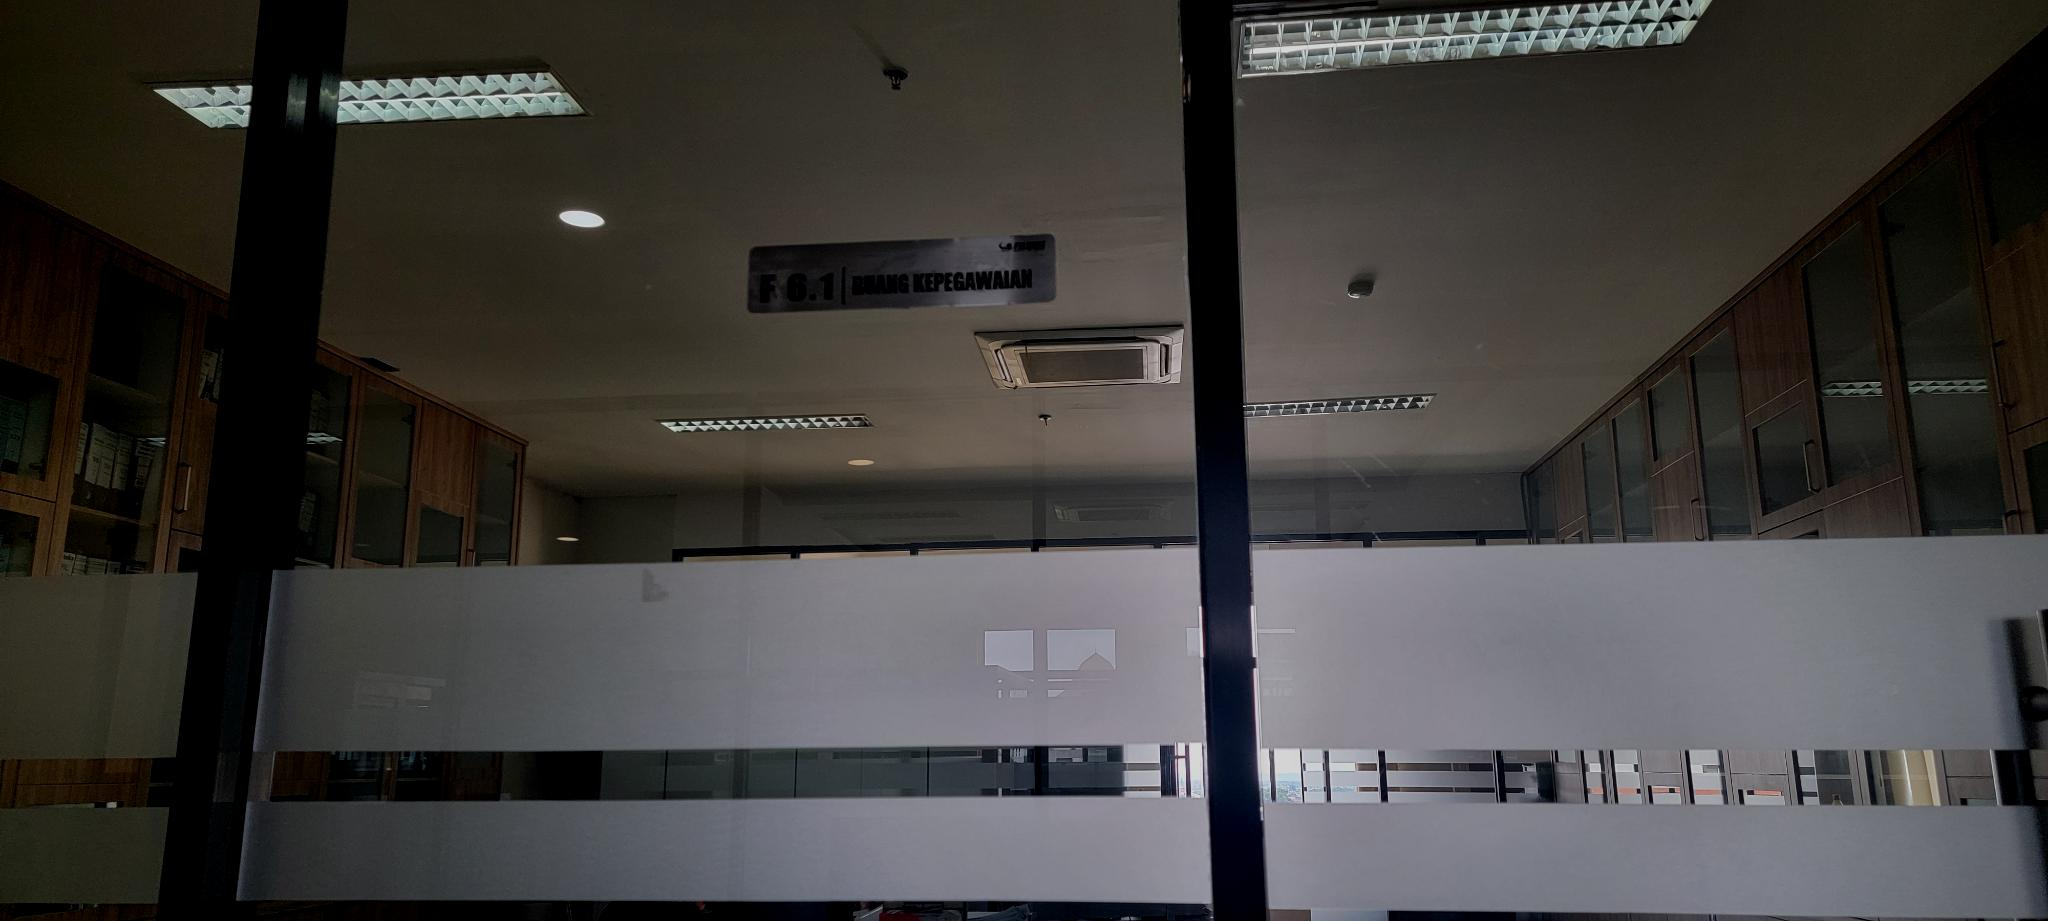plate: (747, 233, 1057, 315)
